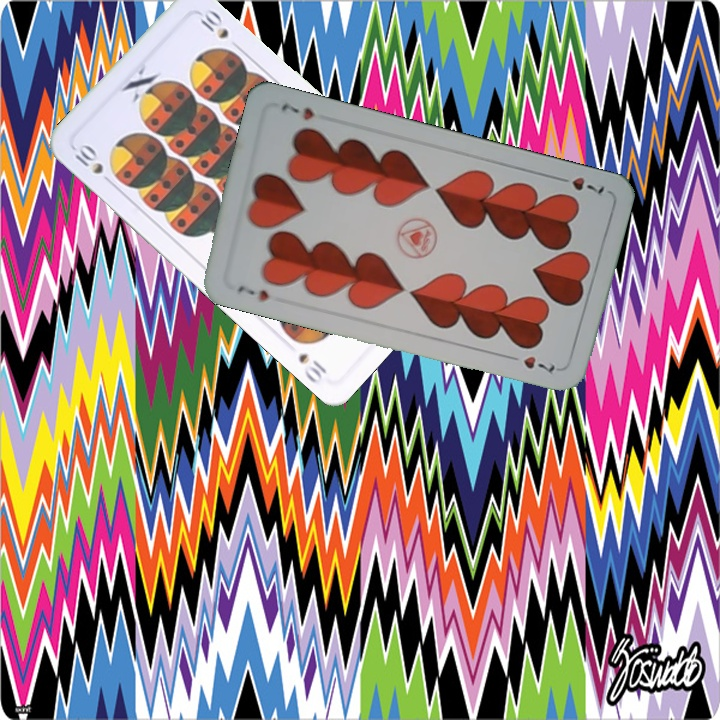H7: (551, 172, 607, 197), (233, 281, 271, 305)
S10: (69, 139, 117, 188)
